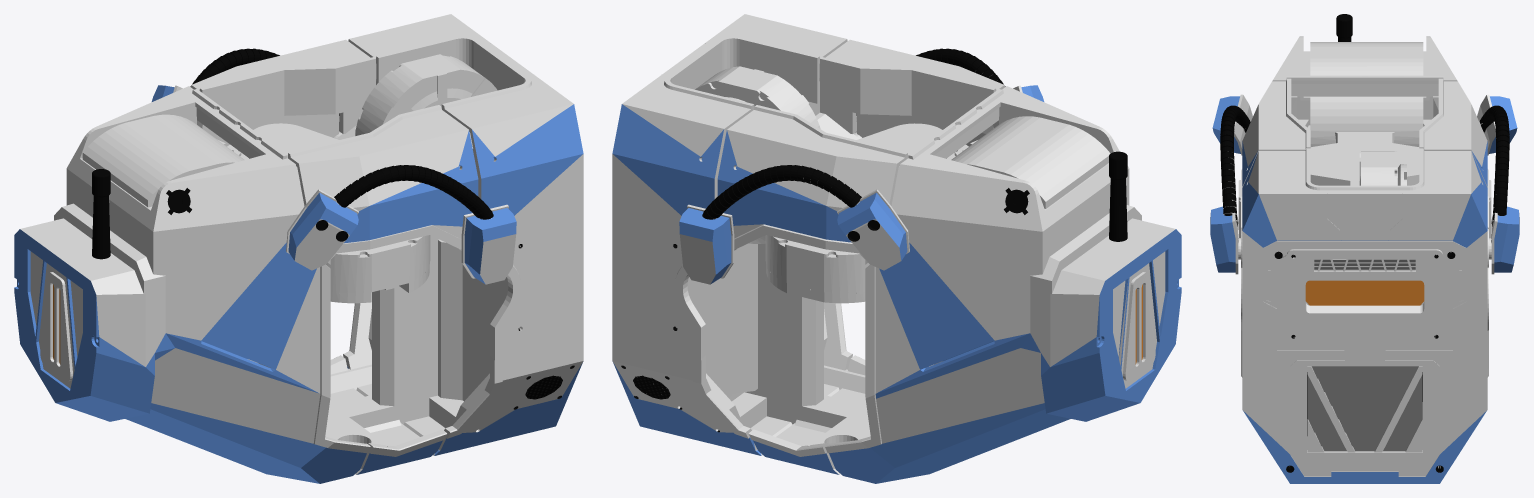
File: pelvis.dae
3 renders of one model, left to right at view 1: azimuth 30°, elevation 25°; view 2: azimuth 150°, elevation 25°; view 3: azimuth 270°, elevation 25°, orthographic. The views are drawn at different scales.
Parts seen in each view (by area): view 1: pelvis; view 2: pelvis; view 3: pelvis.
Boxes of the visible parts, x1,y1,x2,y2 form: pelvis: (14, 14, 583, 483); pelvis: (612, 14, 1181, 483); pelvis: (1210, 14, 1519, 483).
Bounding box in the file's own units: 337 × 227 × 238.
